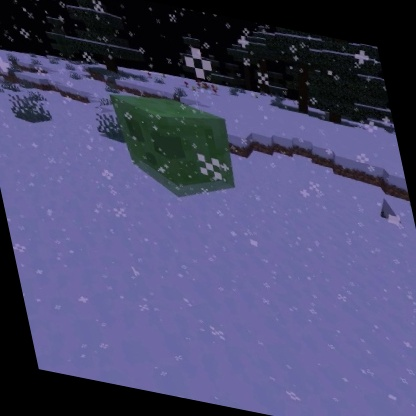slime: (105, 82, 249, 215)
